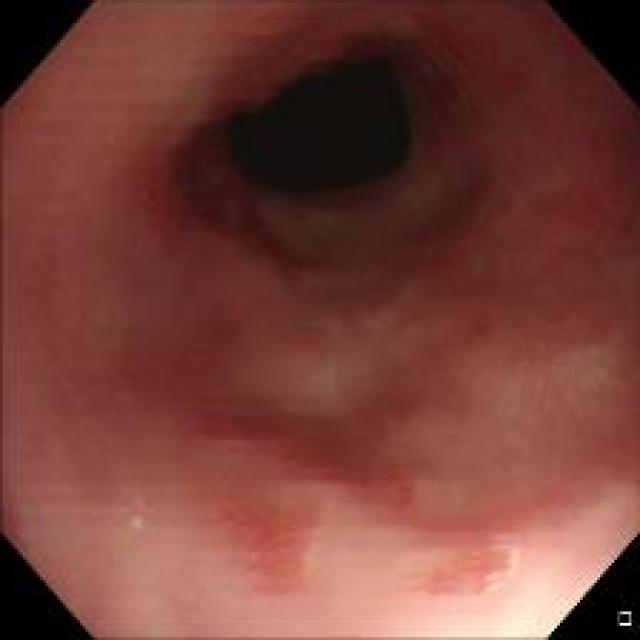blur: (120, 9, 632, 552)
contrast: (194, 40, 441, 234)
